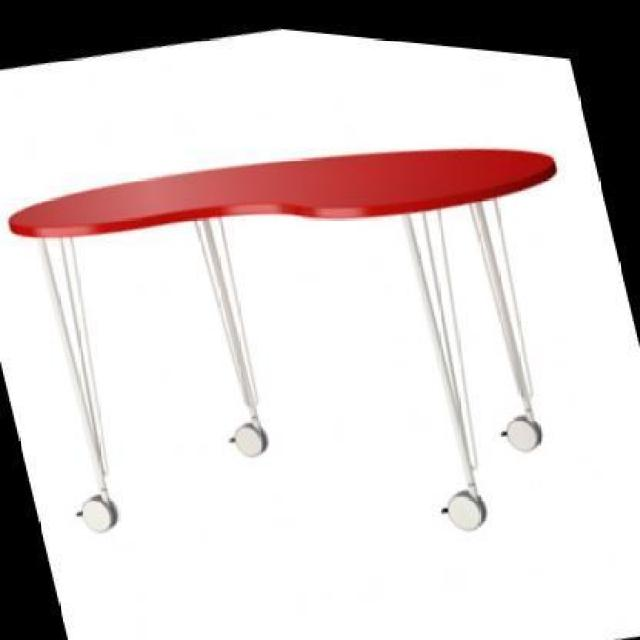tables: (8, 144, 557, 534)
